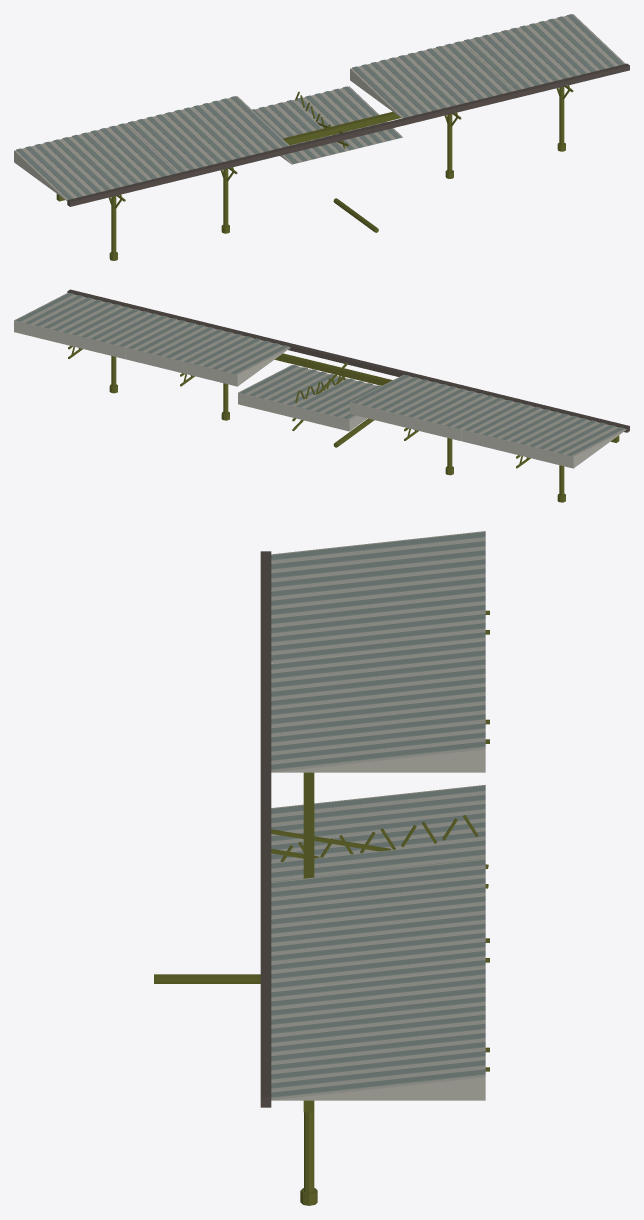
File: SM_marquesina_v3_LOD0.fbx
The picture shows the model from 3 angles, top to bottom: view 1: azimuth 30°, elevation 25°; view 2: azimuth 150°, elevation 25°; view 3: azimuth 270°, elevation 25°; orthographic projection. The views are drawn at different scales.
Parts seen in each view (by area): view 1: SM_bloques.marquesina_v3_LOD0; view 2: SM_bloques.marquesina_v3_LOD0; view 3: SM_bloques.marquesina_v3_LOD0.
Part boxes in pixels (left/top/right/bottom): SM_bloques.marquesina_v3_LOD0: left=14, top=14, right=629, bottom=260; SM_bloques.marquesina_v3_LOD0: left=14, top=289, right=629, bottom=502; SM_bloques.marquesina_v3_LOD0: left=154, top=531, right=489, bottom=1205.
Size of the model in its own units: 30 by 4.63 by 7.8.
